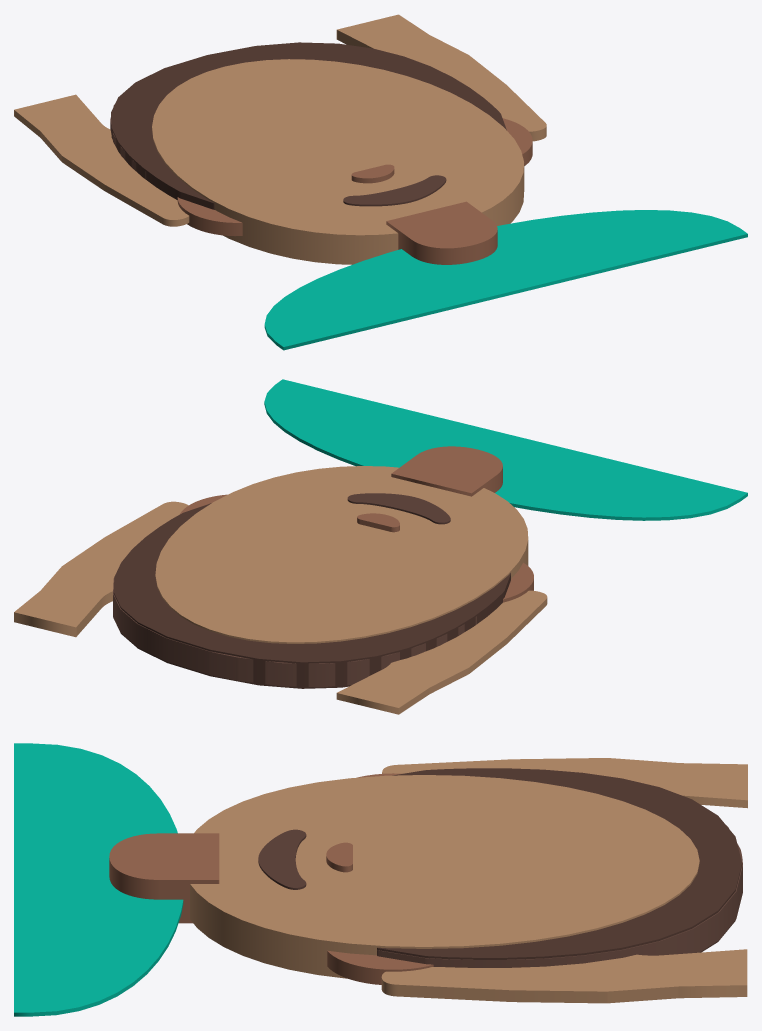
File: emoji_u1f486_1f3fd_200d_2642.glb
3 renders of one model, top to bottom at view 1: azimuth 30°, elevation 25°; view 2: azimuth 150°, elevation 25°; view 3: azimuth 270°, elevation 25°, orthographic. The views are drawn at different scales.
Visible parts, largest first — view 1: emoji_u1f486_1f3fd_200d_2642; view 2: emoji_u1f486_1f3fd_200d_2642; view 3: emoji_u1f486_1f3fd_200d_2642.
Boxes of the visible parts, x1,y1,x2,y2 form: emoji_u1f486_1f3fd_200d_2642: (14,14,747,350); emoji_u1f486_1f3fd_200d_2642: (14,379,747,714); emoji_u1f486_1f3fd_200d_2642: (14,743,747,1016).
Bounding box in the file's own units: 0.0294 × 0.0024 × 0.0338.
